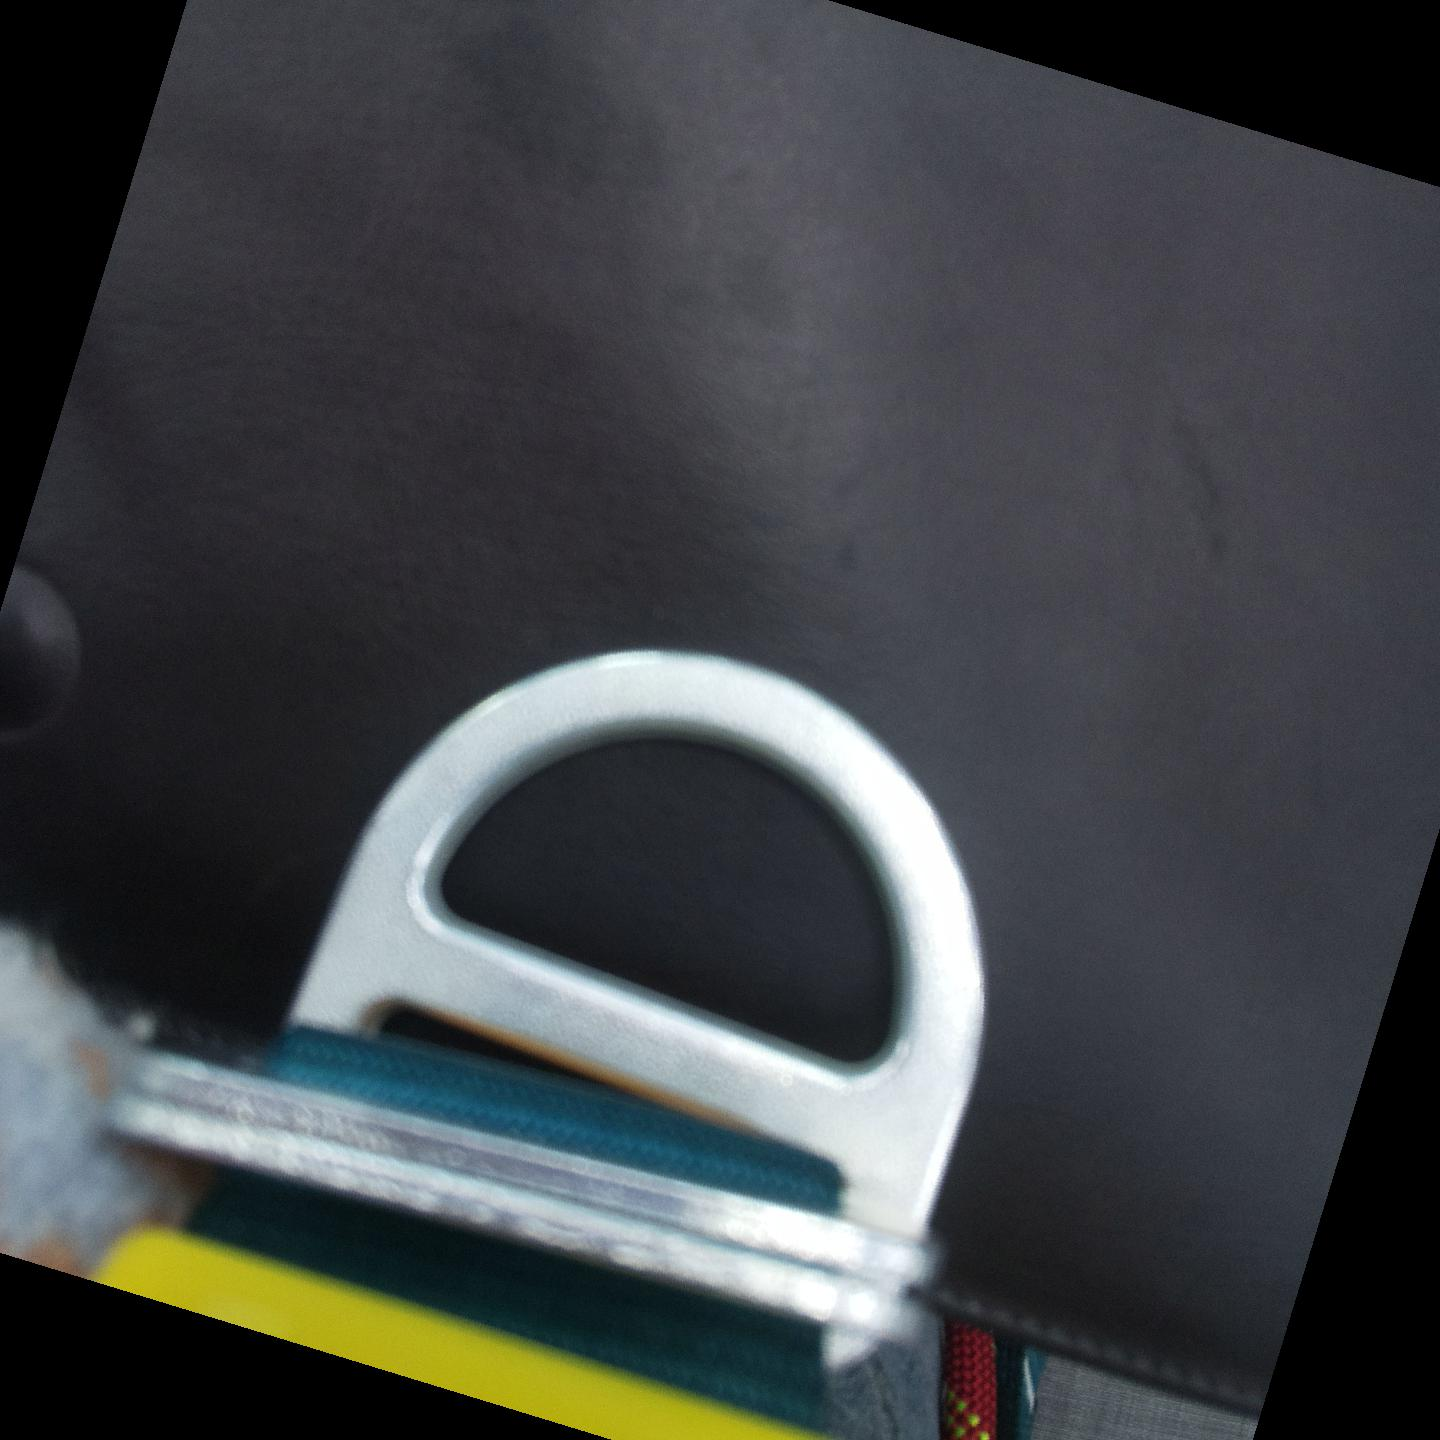UNSUCCESS: (302, 603, 1060, 1151)
